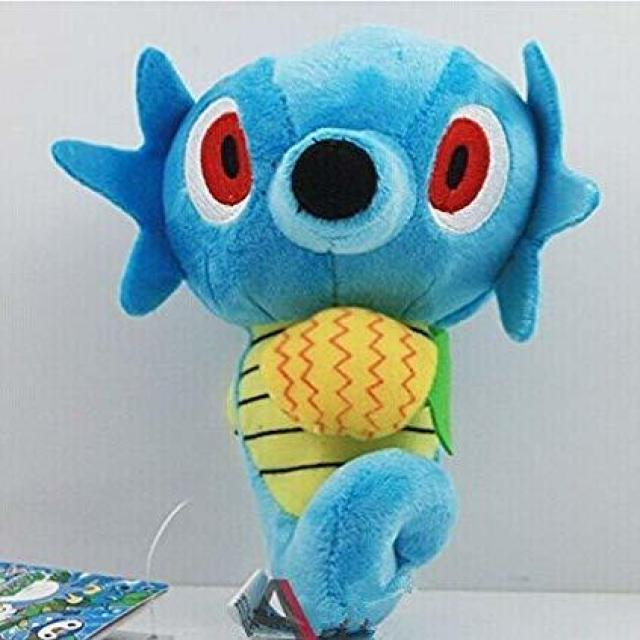Horsea: (138, 27, 545, 613)
